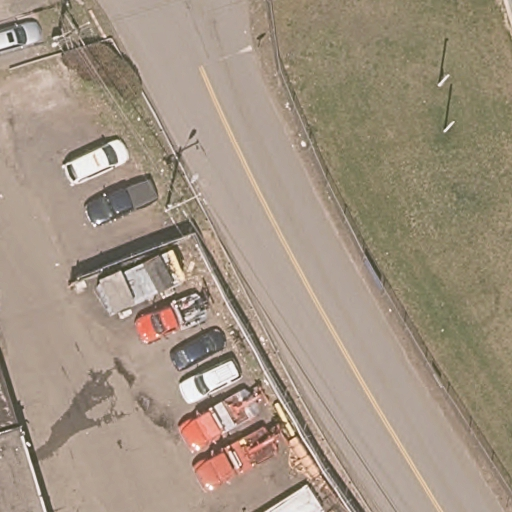DT: (54, 19, 92, 51), (164, 191, 202, 215)
